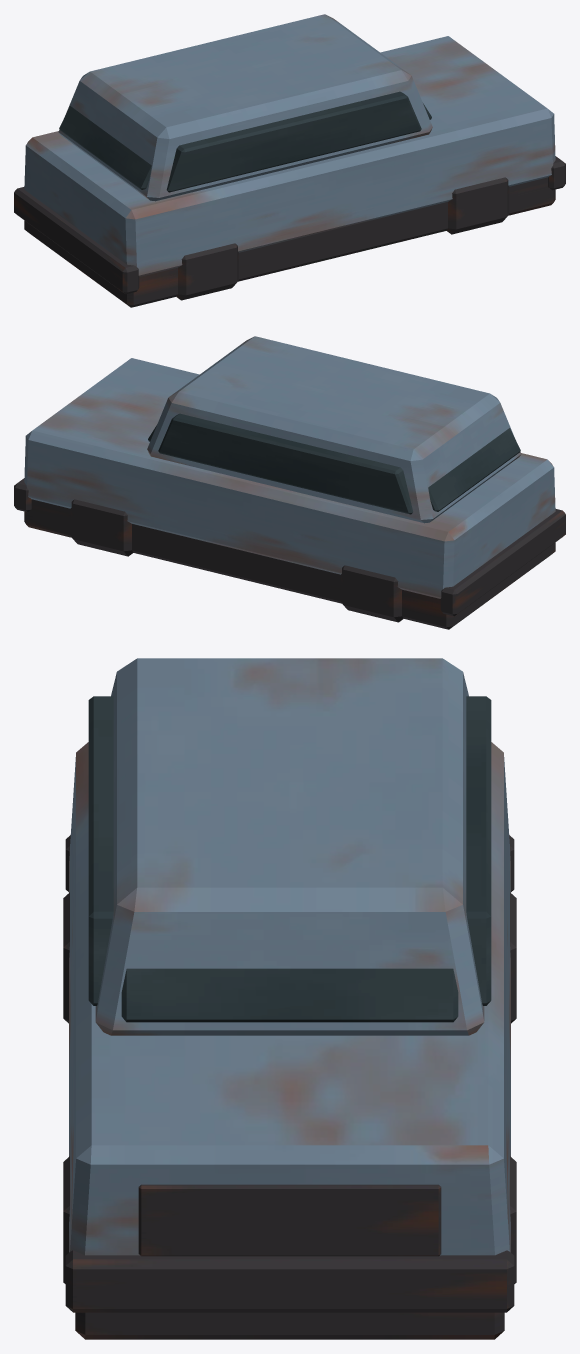
The model's file is car-wagon.glb.
3 views of the same model, one above another, from view 1: azimuth 30°, elevation 25°; view 2: azimuth 150°, elevation 25°; view 3: azimuth 270°, elevation 25° (orthographic). The views are drawn at different scales.
Parts seen in each view (by area): view 1: car_wagon; view 2: car_wagon; view 3: car_wagon.
Boxes of the visible parts, x1,y1,x2,y2 form: car_wagon: (14, 14, 565, 307); car_wagon: (14, 336, 565, 629); car_wagon: (63, 658, 516, 1339).
Bounding box in the file's own units: 4.2 × 1.48 × 1.86.
1 material, 1 textured.
